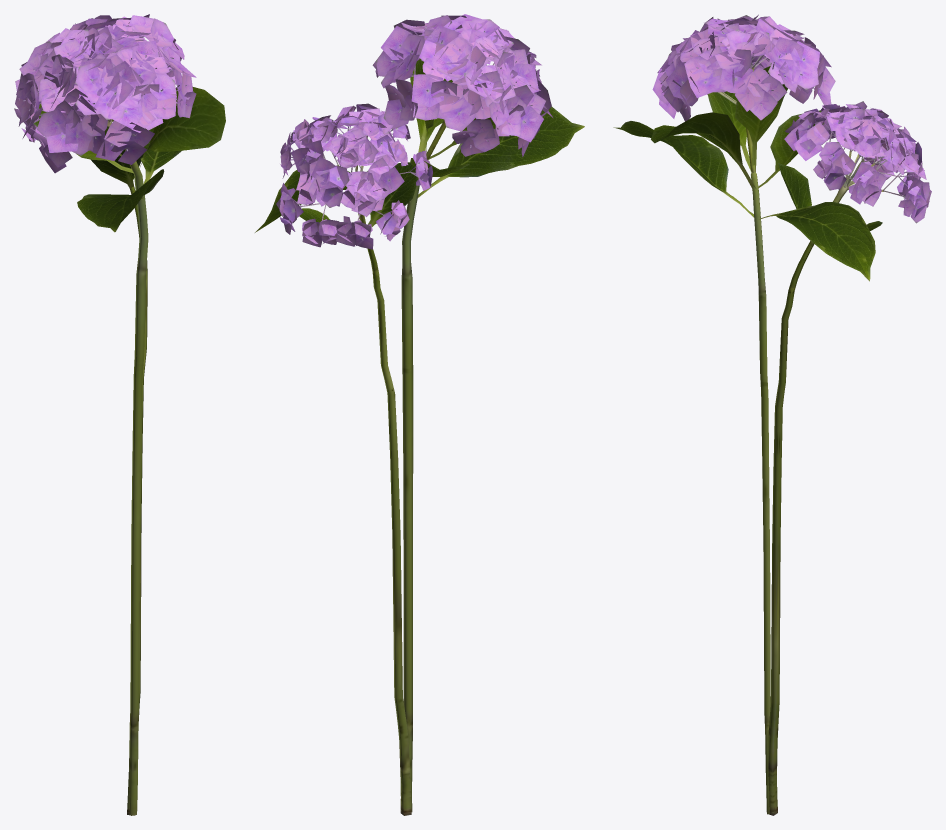
The model's file is Hydrangea_bush_long_magenta.glb.
3 renders of one model, left to right at view 1: azimuth 30°, elevation 25°; view 2: azimuth 150°, elevation 25°; view 3: azimuth 270°, elevation 25°, orthographic. The views are drawn at different scales.
Visible parts, largest first — view 1: BUSHEKK; view 2: BUSHEKK; view 3: BUSHEKK.
Boxes of the visible parts, x1=… form: BUSHEKK: x1=14, y1=14, x2=225, y2=815; BUSHEKK: x1=255, y1=14, x2=584, y2=815; BUSHEKK: x1=613, y1=14, x2=931, y2=815.
Size of the model in its own units: 1.48 by 5.02 by 1.87.
Materials: 1 (1 with a texture image).
